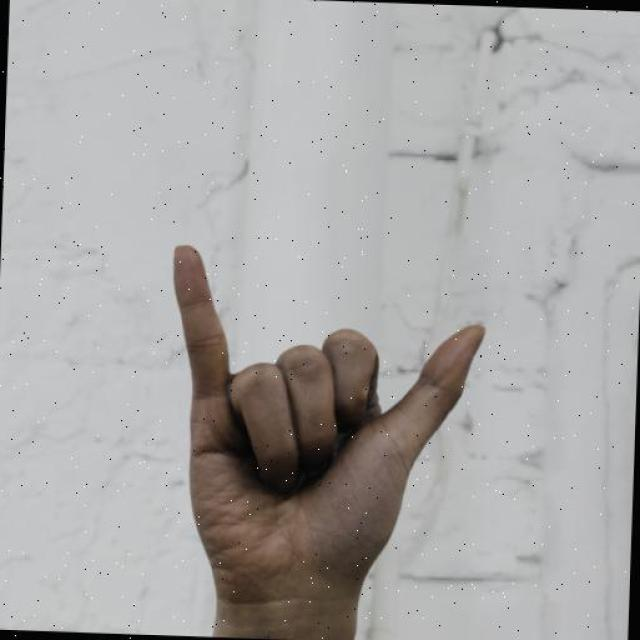Y: (155, 238, 494, 618)
